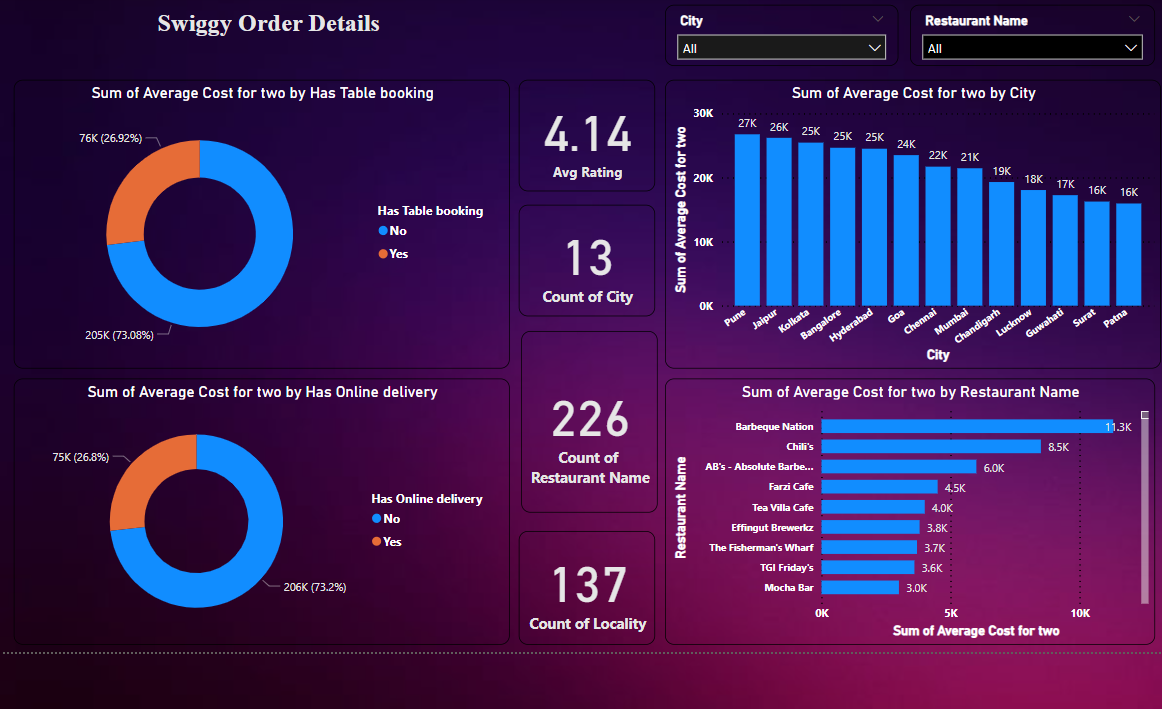

What the dashboard file says about the page in this screenshot:
{"tool":"powerbi","page":{"name":"Page 1","canvas":[1280,720],"ordinal":0},"visuals":[{"type":"columnChart","fields":{"Category":["Swiggy_Dataset.City"],"Y":["Sum(Swiggy_Dataset.Average Cost for two)"]},"box":[729.4,91.9,544.3,316.7],"z":0},{"type":"barChart","fields":{"Category":["Swiggy_Dataset.Restaurant Name"],"Y":["Sum(Swiggy_Dataset.Average Cost for two)"]},"box":[729.4,419.5,537.5,292],"z":1000},{"type":"donutChart","fields":{"Category":["Swiggy_Dataset.Has Online delivery"],"Y":["Sum(Swiggy_Dataset.Average Cost for two)"]},"box":[15.1,419.5,544.3,292],"z":2000},{"type":"donutChart","fields":{"Category":["Swiggy_Dataset.Has Table booking"],"Y":["Sum(Swiggy_Dataset.Average Cost for two)"]},"box":[15.1,91.9,544.3,316.7],"z":3000},{"type":"textbox","box":[15.1,9.6,559.4,45.2],"z":4000},{"type":"card","fields":{"Values":["Count(Swiggy_Dataset.City)"]},"box":[569,229,149.4,122],"z":5000},{"type":"card","fields":{"Values":["Count(Swiggy_Dataset.Restaurant Name)"]},"box":[571.7,367.4,149.4,198.8],"z":6000},{"type":"card","fields":{"Values":["Count(Swiggy_Dataset.Locality)"]},"box":[569,586.8,149.4,124.8],"z":7000},{"type":"slicer","fields":{"Values":["Swiggy_Dataset.City"]},"box":[729.4,9.6,256.4,67.2],"z":7002},{"type":"slicer","fields":{"Values":["Swiggy_Dataset.Restaurant Name"]},"box":[998.1,9.6,268.7,67.2],"z":7003},{"type":"card","fields":{"Values":["Avg(Swiggy_Dataset. Rating Stars out of 5)"]},"box":[569,91.9,149.4,122],"z":7004}]}

Visuals, with their boxes on the page's 1280x720 design canvas (x1, y1, x2, y2). These are canvas units, not pixel positions in the 1162x709 screenshot, which may show the page scaled, cropped or inside an application window:
columnChart - Swiggy_Dataset.City x Sum(Swiggy_Dataset.Average Cost for two): 729:92:1274:409
barChart - Swiggy_Dataset.Restaurant Name x Sum(Swiggy_Dataset.Average Cost for two): 729:420:1267:712
donutChart - Swiggy_Dataset.Has Online delivery x Sum(Swiggy_Dataset.Average Cost for two): 15:420:559:712
donutChart - Swiggy_Dataset.Has Table booking x Sum(Swiggy_Dataset.Average Cost for two): 15:92:559:409
textbox: 15:10:574:55
card - Count(Swiggy_Dataset.City): 569:229:718:351
card - Count(Swiggy_Dataset.Restaurant Name): 572:367:721:566
card - Count(Swiggy_Dataset.Locality): 569:587:718:712
slicer - Swiggy_Dataset.City: 729:10:986:77
slicer - Swiggy_Dataset.Restaurant Name: 998:10:1267:77
card - Avg(Swiggy_Dataset. Rating Stars out of 5): 569:92:718:214
